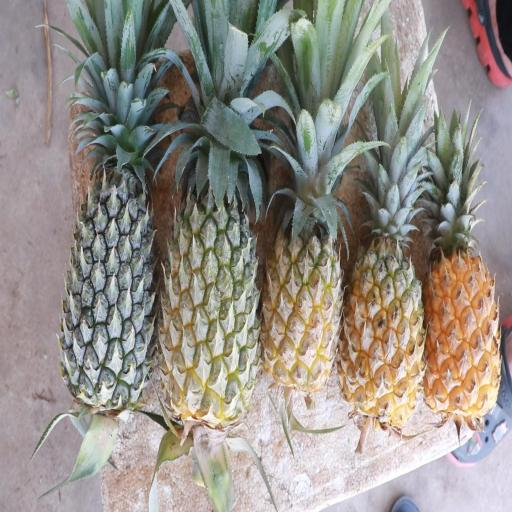------------------------------: (163, 138, 256, 423)
Pineapple - v8 v1: (268, 158, 345, 386), (344, 203, 424, 416), (422, 202, 499, 420)
